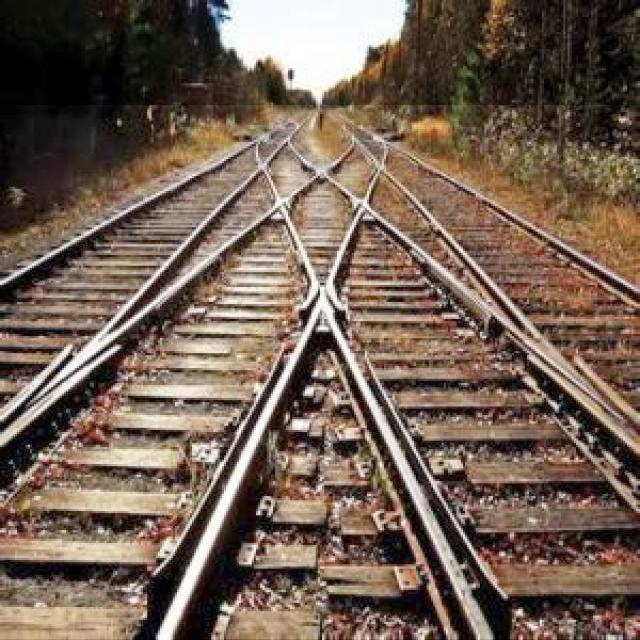rail: (1, 107, 640, 640)
